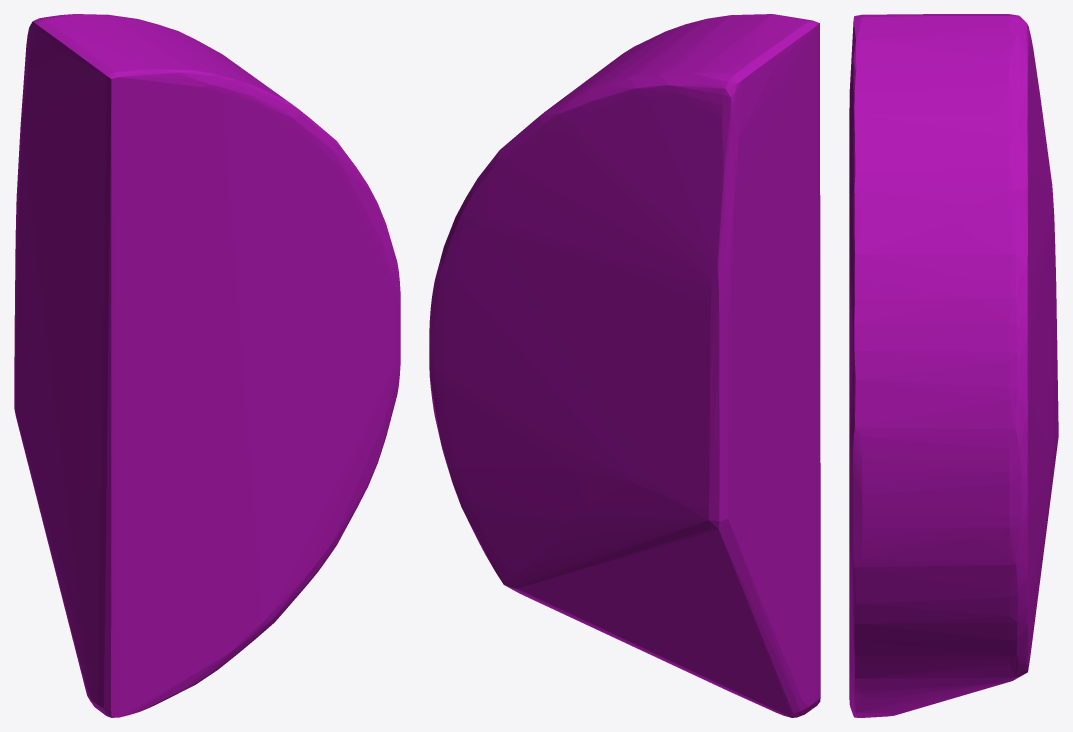
Rendered from left-hip-pitch-0_part_22.obj.
The picture shows the model from 3 angles, left to right: view 1: azimuth 30°, elevation 25°; view 2: azimuth 150°, elevation 25°; view 3: azimuth 270°, elevation 25°; orthographic projection. The views are drawn at different scales.
Bounding box in the file's own units: 0.0643 × 0.1338 × 0.0374.
